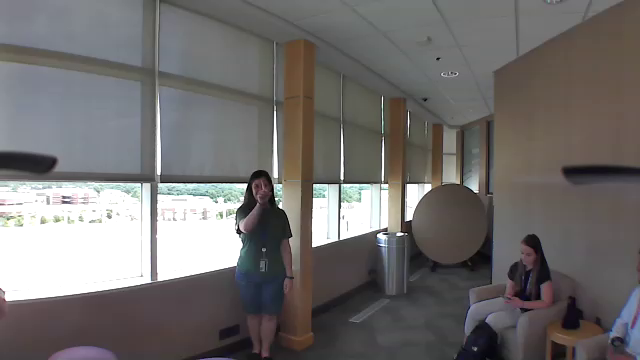up: (252, 175, 276, 209)
